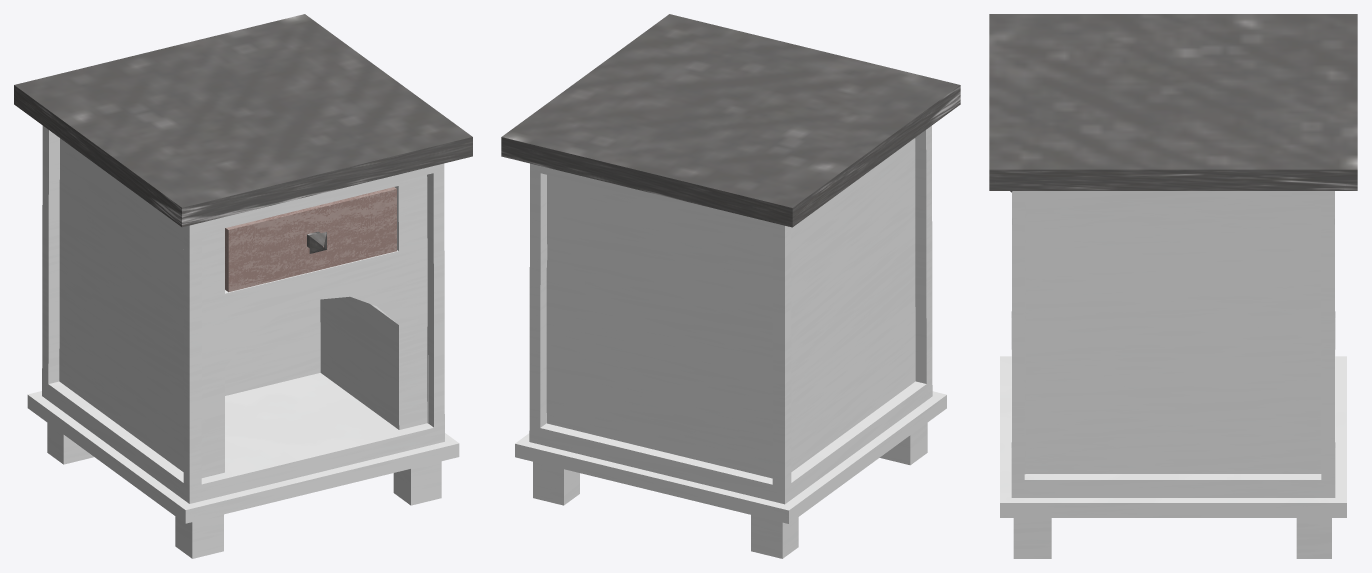
File: Fixed End Table (1).fbx
3 views of the same model, side by side, from view 1: azimuth 30°, elevation 25°; view 2: azimuth 150°, elevation 25°; view 3: azimuth 270°, elevation 25° (orthographic). The views are drawn at different scales.
Parts seen in each view (by area): view 1: endtable_opening_text:pCube1, endtable_opening_text:polySurface1; view 2: endtable_opening_text:pCube1; view 3: endtable_opening_text:pCube1.
Boxes of the visible parts, x1,y1,x2,y2 form: endtable_opening_text:pCube1: (14, 14, 472, 558); endtable_opening_text:polySurface1: (225, 187, 396, 292); endtable_opening_text:pCube1: (501, 14, 960, 558); endtable_opening_text:pCube1: (989, 14, 1357, 558).
Size of the model in its own units: 34.64 by 41.49 by 34.64.
